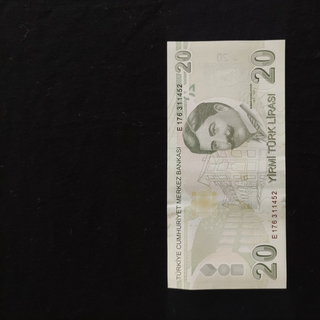20TLBack: (167, 39, 287, 289)
